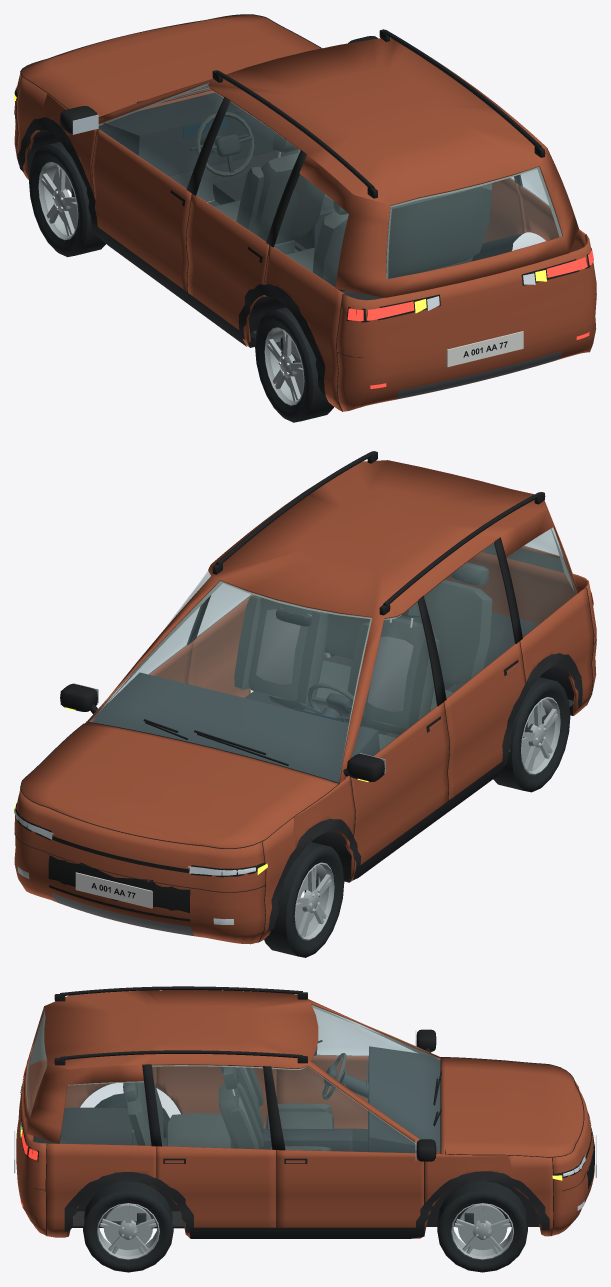
The model's file is DS_Crossover_A_Traffic.fbx.
3 renders of one model, top to bottom at view 1: azimuth 30°, elevation 25°; view 2: azimuth 150°, elevation 25°; view 3: azimuth 270°, elevation 25°, orthographic. The views are drawn at different scales.
Visible parts, largest first — view 1: Roof, Bumper_Rear, Hood, Glass_Tailgate, Door_Front_L, RearBench_Backrest, Glass_Rear_L, Door_Rear_L, Dashboard, Glass_Front_L, Backrest_L, Glass_Quarter_L (+26 smaller); view 2: Roof, Glass_Windshield, Hood, Bumper_Front, Dashboard, Door_Front_L, Glass_Rear_L, Glass_Front_L, Door_Rear_L, RearBench_Backrest, Backrest_R, Bumper_Rear (+32 smaller); view 3: Roof, Hood, Door_Front_R, Glass_Windshield, Glass_Rear_R, Door_Rear_R, Glass_Front_R, Dashboard, Glass_Quarter_R, Fender_Rear_R, Wheel_FR_Tyre, Fender_Front_R (+35 smaller).
Boxes of the visible parts, x1=… form: Roof: x1=98, y1=38, x2=578, y2=297; Bumper_Rear: x1=336, y1=234, x2=596, y2=411; Hood: x1=21, y1=15, x2=321, y2=116; Glass_Tailgate: x1=386, y1=167, x2=562, y2=278; Door_Front_L: x1=92, y1=129, x2=191, y2=291; RearBench_Backrest: x1=313, y1=183, x2=492, y2=291; Glass_Rear_L: x1=196, y1=102, x2=299, y2=241; Door_Rear_L: x1=186, y1=194, x2=269, y2=346; Dashboard: x1=98, y1=92, x2=275, y2=176; Glass_Front_L: x1=98, y1=83, x2=223, y2=188; Backrest_L: x1=236, y1=152, x2=324, y2=244; Glass_Quarter_L: x1=274, y1=174, x2=348, y2=286; Roof: x1=87, y1=460, x2=578, y2=783; Glass_Windshield: x1=89, y1=581, x2=371, y2=782; Hood: x1=21, y1=722, x2=338, y2=848; Bumper_Front: x1=14, y1=789, x2=265, y2=944; Dashboard: x1=93, y1=672, x2=379, y2=782; Door_Front_L: x1=349, y1=702, x2=449, y2=881; Glass_Rear_L: x1=424, y1=543, x2=514, y2=698; Glass_Front_L: x1=347, y1=602, x2=436, y2=776; Door_Rear_L: x1=444, y1=641, x2=525, y2=800; RearBench_Backrest: x1=324, y1=579, x2=492, y2=684; Backrest_R: x1=234, y1=595, x2=328, y2=705; Bumper_Rear: x1=445, y1=552, x2=596, y2=691; Roof: x1=22, y1=990, x2=440, y2=1154; Hood: x1=441, y1=1057, x2=583, y2=1156; Door_Front_R: x1=277, y1=1150, x2=423, y2=1238; Glass_Windshield: x1=311, y1=1005, x2=439, y2=1152; Glass_Rear_R: x1=152, y1=1065, x2=271, y2=1149; Door_Rear_R: x1=156, y1=1146, x2=276, y2=1237; Glass_Front_R: x1=272, y1=1066, x2=415, y2=1152; Dashboard: x1=368, y1=1046, x2=440, y2=1153; Glass_Quarter_R: x1=60, y1=1082, x2=151, y2=1145; Fender_Rear_R: x1=46, y1=1143, x2=156, y2=1237; Wheel_FR_Tyre: x1=437, y1=1181, x2=527, y2=1272; Fender_Front_R: x1=424, y1=1154, x2=553, y2=1236.
Size of the model in its own units: 217 by 439 by 171.
